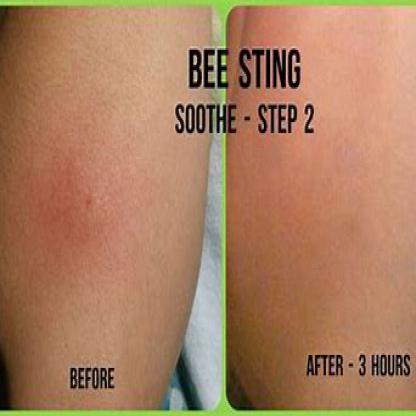Wasp: (52, 170, 132, 240)
